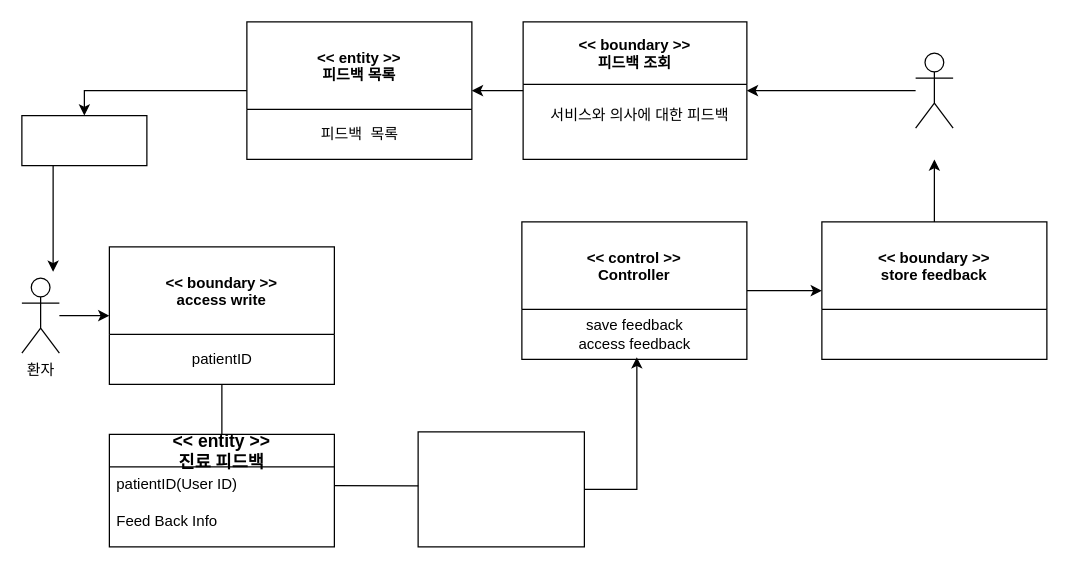
Some shapes in this 1069 by 573 pixel diagram are drawn without their labels. Here are the shapes that lost their labels. From the top down, the centre of each, then its label:
At (933,90): "진료 시스템".
At (84,140): "<< boundary >> Interface page".
At (500,489): "<< entity >> 진료 피드백 쓰기".
